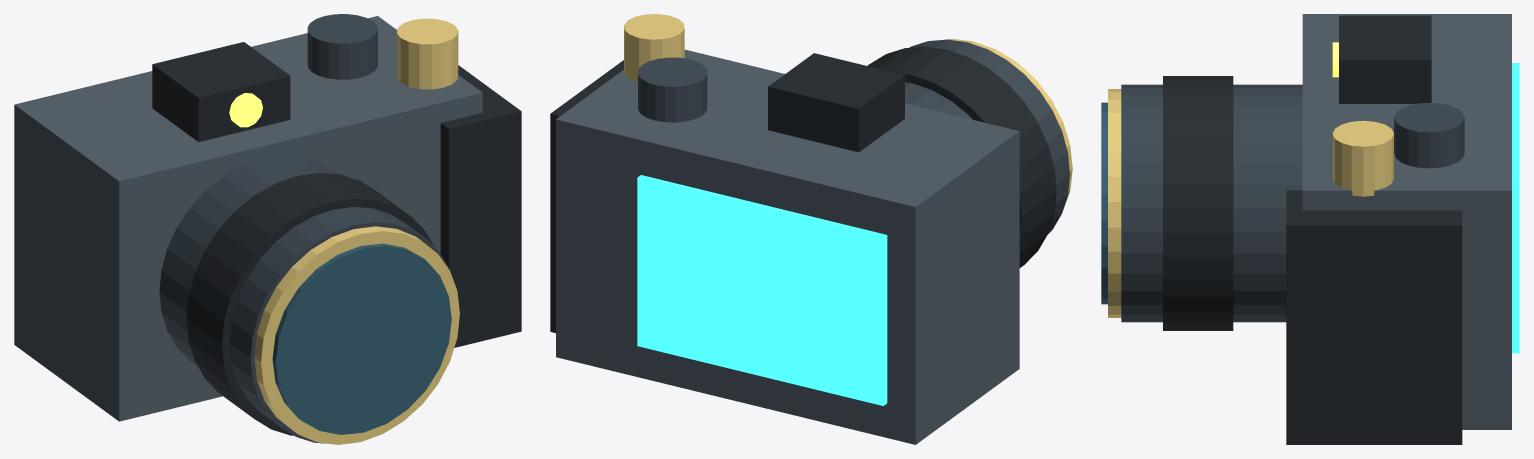
File: survey-camera.glb
3 renders of one model, left to right at view 1: azimuth 30°, elevation 25°; view 2: azimuth 150°, elevation 25°; view 3: azimuth 270°, elevation 25°, orthographic.
Parts seen in each view (by area): view 1: Camera_Chassis, Lens_Coated_Glass, Ergonomic_Grip, Lens_Barrel_Base, Focus_Ring, LiDAR_Sensor_Block, Brass_Aperture_Ring, Mode_Dial, Shutter_Button, LiDAR_Diode; view 2: Camera_Chassis, AMOLED_Display, Focus_Ring, LiDAR_Sensor_Block, Lens_Barrel_Base, Mode_Dial, Shutter_Button, Ergonomic_Grip, Brass_Aperture_Ring; view 3: Ergonomic_Grip, Camera_Chassis, Lens_Barrel_Base, Focus_Ring, LiDAR_Sensor_Block, Mode_Dial, Shutter_Button, Brass_Aperture_Ring, AMOLED_Display, Lens_Coated_Glass.
Boxes of the visible parts, x1,y1,x2,y2 form: Camera_Chassis: (14, 16, 482, 421); Lens_Coated_Glass: (272, 243, 451, 434); Ergonomic_Grip: (440, 65, 521, 347); Lens_Barrel_Base: (159, 155, 449, 443); Focus_Ring: (186, 173, 433, 435); LiDAR_Sensor_Block: (152, 42, 290, 142); Brass_Aperture_Ring: (254, 226, 459, 444); Mode_Dial: (307, 14, 377, 79); Shutter_Button: (397, 18, 458, 89); LiDAR_Diode: (229, 93, 262, 127); Camera_Chassis: (556, 49, 1019, 444); AMOLED_Display: (637, 175, 887, 405); Focus_Ring: (867, 46, 1056, 267); LiDAR_Sensor_Block: (768, 53, 904, 152); Lens_Barrel_Base: (905, 39, 1069, 233); Mode_Dial: (638, 57, 707, 122); Shutter_Button: (624, 14, 684, 81); Ergonomic_Grip: (550, 60, 623, 332); Brass_Aperture_Ring: (947, 38, 1072, 207); Ergonomic_Grip: (1286, 190, 1462, 444); Camera_Chassis: (1302, 14, 1511, 429); Lens_Barrel_Base: (1121, 84, 1302, 322); Focus_Ring: (1163, 76, 1233, 330); LiDAR_Sensor_Block: (1339, 15, 1431, 103); Mode_Dial: (1394, 102, 1464, 168); Shutter_Button: (1332, 120, 1393, 196); Brass_Aperture_Ring: (1108, 89, 1121, 317); AMOLED_Display: (1512, 63, 1519, 353); Lens_Coated_Glass: (1101, 102, 1107, 304).
Bounding box in the file's own units: 0.206 × 0.143 × 0.19.
